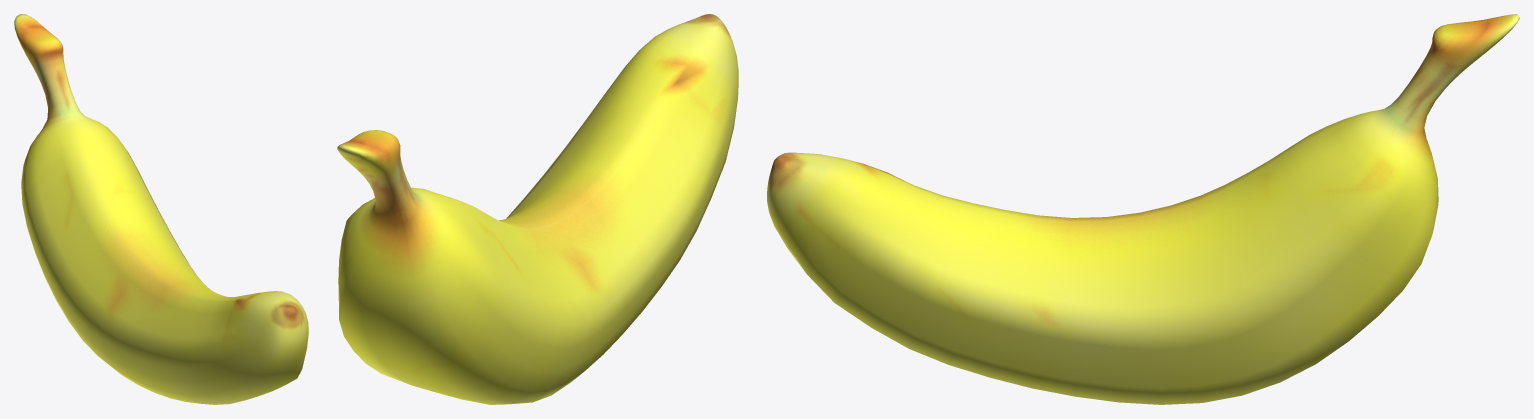
Rendered from BananaDagger.fbx.
3 views of the same model, side by side, from view 1: azimuth 30°, elevation 25°; view 2: azimuth 150°, elevation 25°; view 3: azimuth 270°, elevation 25° (orthographic). The views are drawn at different scales.
Parts seen in each view (by area): view 1: Banana; view 2: Banana; view 3: Banana.
Part boxes in pixels (bbox=[...]): Banana: bbox=[14, 14, 308, 404]; Banana: bbox=[337, 14, 738, 404]; Banana: bbox=[767, 14, 1519, 404].
Size of the model in its own units: 256 by 544 by 1014.
